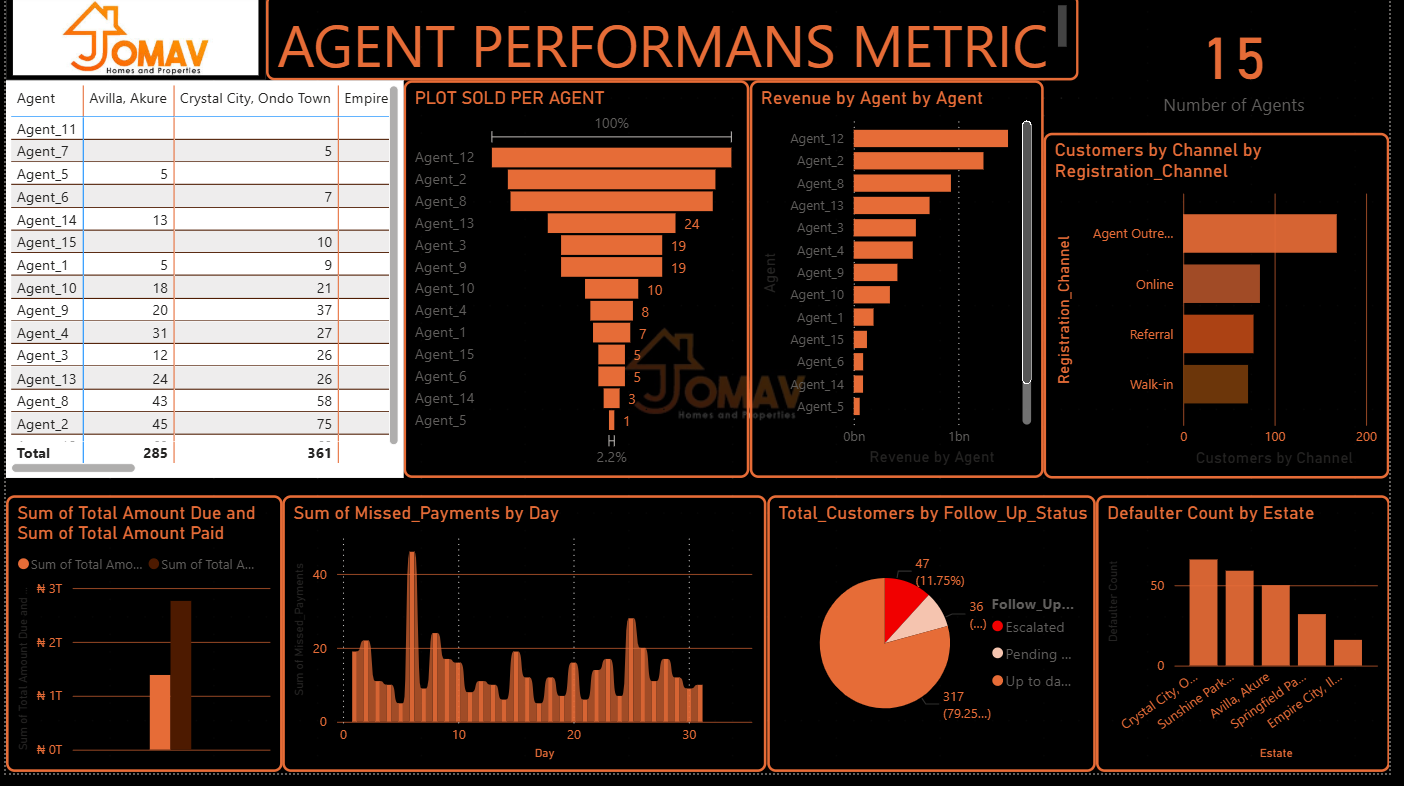

What the dashboard file says about the page in this screenshot:
{"tool":"powerbi","page":{"name":"Agent Performance ","canvas":[1280,720],"ordinal":1},"visuals":[{"type":"funnel","title":"PLOT SOLD PER AGENT","fields":{"Category":["Sheet1.Agent"],"Y":["Sheet1.Defaulter Count"]},"box":[368,80,320,384],"z":0},{"type":"barChart","fields":{"Category":["Sheet1.Agent"],"Y":["Sheet1.Revenue by Agent"]},"box":[688,80,272,384],"z":1},{"type":"barChart","fields":{"Category":["Sheet1.Registration_Channel"],"Y":["Sheet1.Customers by Channel"]},"box":[960,128,320,336],"z":2},{"type":"pieChart","fields":{"Series":["Sheet1.Follow_Up_Status"],"Y":["Sheet1.Total_Customers"]},"box":[816,464,464,256],"z":5},{"type":"image","box":[0,0,240,80],"z":6},{"type":"ribbonChart","fields":{"Category":["Sheet1.Last_Payment_Date.Variation.Date Hierarchy.Year","Sheet1.Last_Payment_Date.Variation.Date Hierarchy.Quarter","Sheet1.Last_Payment_Date.Variation.Date Hierarchy.Month","Sheet1.Last_Payment_Date.Variation.Date Hierarchy.Day"],"Y":["Sum(Sheet1.Missed_Payments)"]},"box":[256,464,544,256],"z":7},{"type":"clusteredColumnChart","fields":{"Y":["Sum(Sheet1.Total Amount Due)","Sum(Sheet1.Total Amount Paid)"]},"box":[0,464,256,256],"z":8},{"type":"textbox","box":[240,0,752,80],"z":9},{"type":"card","fields":{"Values":["Sheet1.Number of Agents"]},"box":[992,0,288,128],"z":10},{"type":"pivotTable","fields":{"Rows":["Sheet1.Agent"],"Columns":["Sheet1.Estate"],"Values":["Sum(Sheet1.Plots_Bought)"]},"box":[0,80,368,384],"z":11}]}

Visuals, with their boxes in screenshot pixels (x1, y1, x2, y2), scaled from the page's 1280x720 canvas onto the 1404x786 screenshot:
"PLOT SOLD PER AGENT" funnel: region(404, 87, 755, 507)
barChart - Sheet1.Agent x Sheet1.Revenue by Agent: region(755, 87, 1053, 507)
barChart - Sheet1.Registration_Channel x Sheet1.Customers by Channel: region(1053, 140, 1403, 507)
pieChart - Sheet1.Follow_Up_Status x Sheet1.Total_Customers: region(895, 507, 1403, 785)
image: region(0, 0, 263, 87)
ribbonChart - Sheet1.Last_Payment_Date.Variation.Date Hierarchy.Year x Sheet1.Last_Payment_Date.Variation.Date Hierarchy.Quarter: region(281, 507, 878, 785)
clusteredColumnChart - Sum(Sheet1.Total Amount Due) x Sum(Sheet1.Total Amount Paid): region(0, 507, 281, 785)
textbox: region(263, 0, 1088, 87)
card - Sheet1.Number of Agents: region(1088, 0, 1403, 140)
pivotTable - Sheet1.Agent x Sheet1.Estate: region(0, 87, 404, 507)
